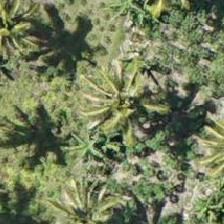coconut_tree: (73, 66, 163, 156), (42, 152, 132, 223), (0, 0, 52, 85)
